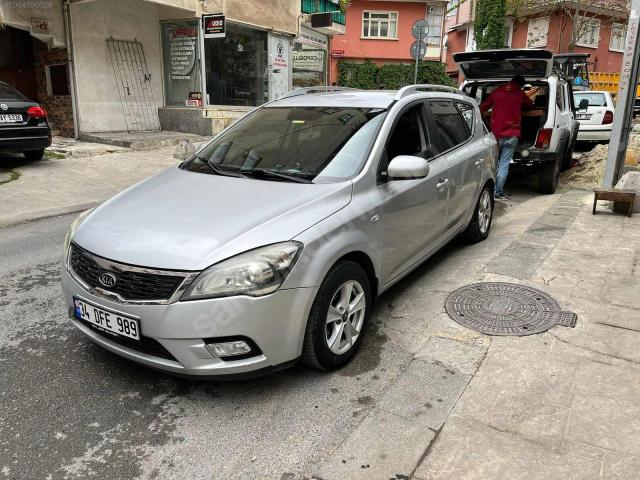plaka: (74, 298, 139, 340)
